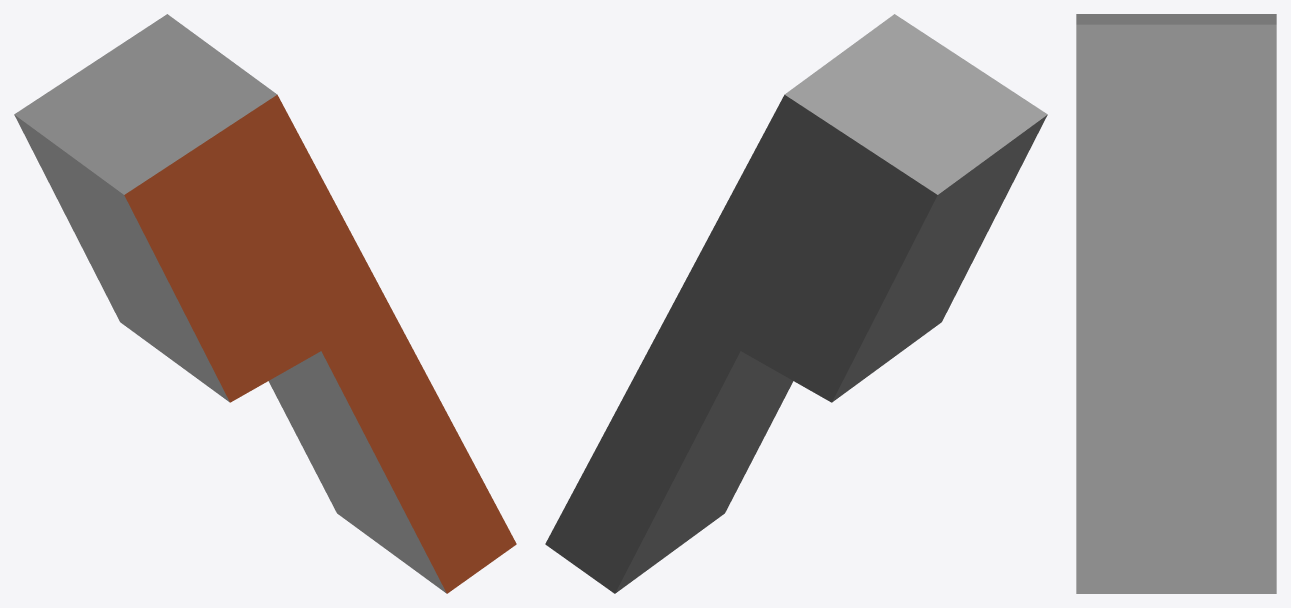
The model's file is construction_1107_assumed_A_Casa_h6m.obj.
The picture shows the model from 3 angles, left to right: view 1: azimuth 30°, elevation 25°; view 2: azimuth 150°, elevation 25°; view 3: azimuth 270°, elevation 25°; orthographic projection. The views are drawn at different scales.
Visible parts, largest first — view 1: construction_1107_assumed_A_Casa; view 2: construction_1107_assumed_A_Casa; view 3: construction_1107_assumed_A_Casa.
Boxes of the visible parts, x1,y1,x2,y2 form: construction_1107_assumed_A_Casa: (14,14,516,593); construction_1107_assumed_A_Casa: (545,14,1047,593); construction_1107_assumed_A_Casa: (1076,14,1276,593).
Bounding box in the file's own units: 12.35 × 16.26 × 6.
